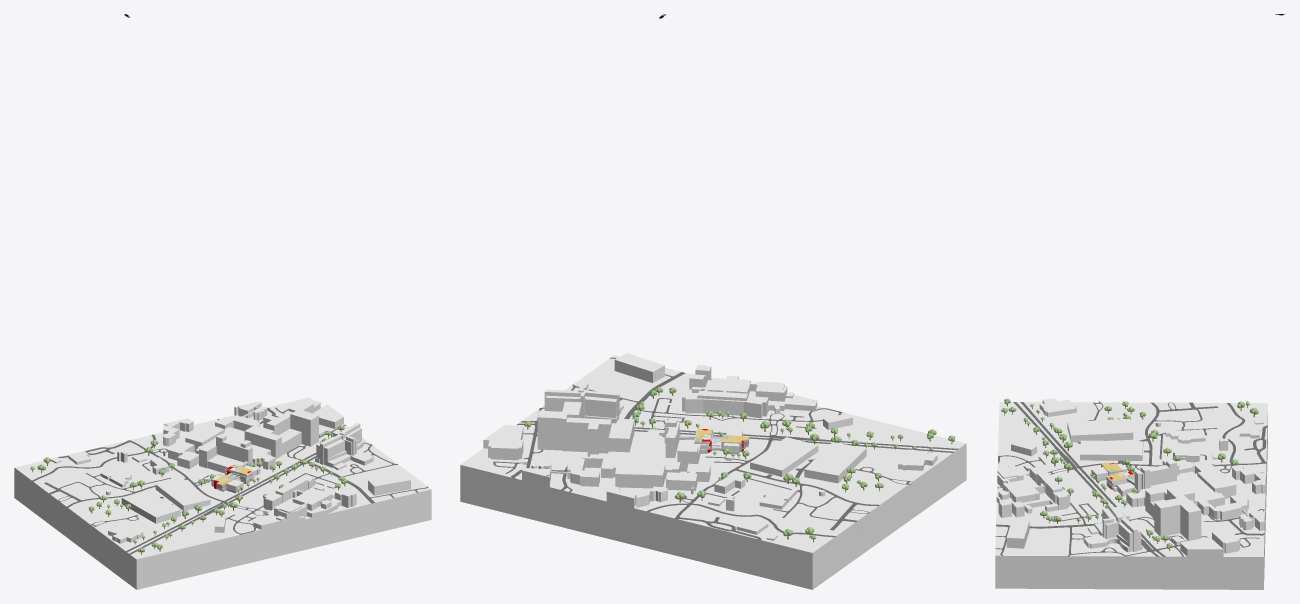
The model's file is site.glb.
3 views of the same model, side by side, from view 1: azimuth 30°, elevation 25°; view 2: azimuth 150°, elevation 25°; view 3: azimuth 270°, elevation 25° (orthographic). The views are drawn at different scales.
Parts seen in each view (by area): view 1: Mesh1 Group1 Model.001, Mesh30 Group30 Model, Mesh13 Group14 Model, Mesh9 Group12 Model, Mesh16 Group16 Model, Mesh15 Group15 Model, Mesh7 Group10 Model, Mesh5 Component_1_1 Group8 Model, Mesh36 Group36 Model, Mesh29 Group29 Model, Mesh35 Group35 Model; view 2: Mesh1 Group1 Model.001, Mesh30 Group30 Model, Mesh13 Group14 Model, Mesh9 Group12 Model, Mesh16 Group16 Model, Mesh15 Group15 Model, Mesh35 Group35 Model, Mesh7 Group10 Model, Mesh29 Group29 Model, Mesh36 Group36 Model, Mesh27 Group27 Model, Mesh17 Group17 Model; view 3: Mesh1 Group1 Model.001, Mesh30 Group30 Model, Mesh13 Group14 Model, Mesh9 Group12 Model, Mesh16 Group16 Model, Mesh15 Group15 Model, Mesh5 Component_1_1 Group8 Model, Mesh28 Group28 Model, Mesh35 Group35 Model, Mesh29 Group29 Model, Mesh7 Group10 Model, Mesh17 Group17 Model (+5 smaller).
Part boxes in pixels (left/top/right/bottom): Mesh1 Group1 Model.001: left=14, top=397, right=431, bottom=589; Mesh30 Group30 Model: left=195, top=401, right=318, bottom=469; Mesh13 Group14 Model: left=253, top=475, right=341, bottom=529; Mesh9 Group12 Model: left=315, top=423, right=373, bottom=468; Mesh16 Group16 Model: left=121, top=490, right=180, bottom=523; Mesh15 Group15 Model: left=155, top=478, right=210, bottom=510; Mesh7 Group10 Model: left=368, top=473, right=410, bottom=495; Mesh5 Component_1_1 Group8 Model: left=216, top=439, right=252, bottom=465; Mesh36 Group36 Model: left=168, top=441, right=198, bottom=468; Mesh29 Group29 Model: left=163, top=418, right=193, bottom=446; Mesh35 Group35 Model: left=185, top=424, right=224, bottom=451; Mesh1 Group1 Model.001: left=460, top=355, right=966, bottom=589; Mesh30 Group30 Model: left=537, top=401, right=698, bottom=486; Mesh13 Group14 Model: left=682, top=375, right=817, bottom=418; Mesh9 Group12 Model: left=544, top=383, right=621, bottom=423; Mesh16 Group16 Model: left=804, top=442, right=866, bottom=483; Mesh15 Group15 Model: left=750, top=437, right=818, bottom=476; Mesh35 Group35 Model: left=615, top=463, right=665, bottom=488; Mesh7 Group10 Model: left=614, top=353, right=664, bottom=382; Mesh29 Group29 Model: left=606, top=486, right=667, bottom=508; Mesh36 Group36 Model: left=666, top=463, right=710, bottom=490; Mesh27 Group27 Model: left=488, top=439, right=523, bottom=460; Mesh17 Group17 Model: left=898, top=449, right=937, bottom=470; Mesh1 Group1 Model.001: left=995, top=401, right=1267, bottom=589; Mesh30 Group30 Model: left=1126, top=459, right=1248, bottom=540; Mesh13 Group14 Model: left=996, top=460, right=1070, bottom=513; Mesh9 Group12 Model: left=1083, top=504, right=1142, bottom=552; Mesh16 Group16 Model: left=1067, top=418, right=1133, bottom=442; Mesh15 Group15 Model: left=1080, top=440, right=1143, bottom=460; Mesh5 Component_1_1 Group8 Model: left=1134, top=465, right=1176, bottom=490; Mesh28 Group28 Model: left=1180, top=537, right=1223, bottom=556; Mesh35 Group35 Model: left=1197, top=468, right=1236, bottom=498; Mesh29 Group29 Model: left=1232, top=465, right=1265, bottom=494; Mesh7 Group10 Model: left=1006, top=520, right=1029, bottom=548; Mesh17 Group17 Model: left=1039, top=398, right=1076, bottom=416.
Bounding box in the file's own units: 2505 × 3625 × 1973.
